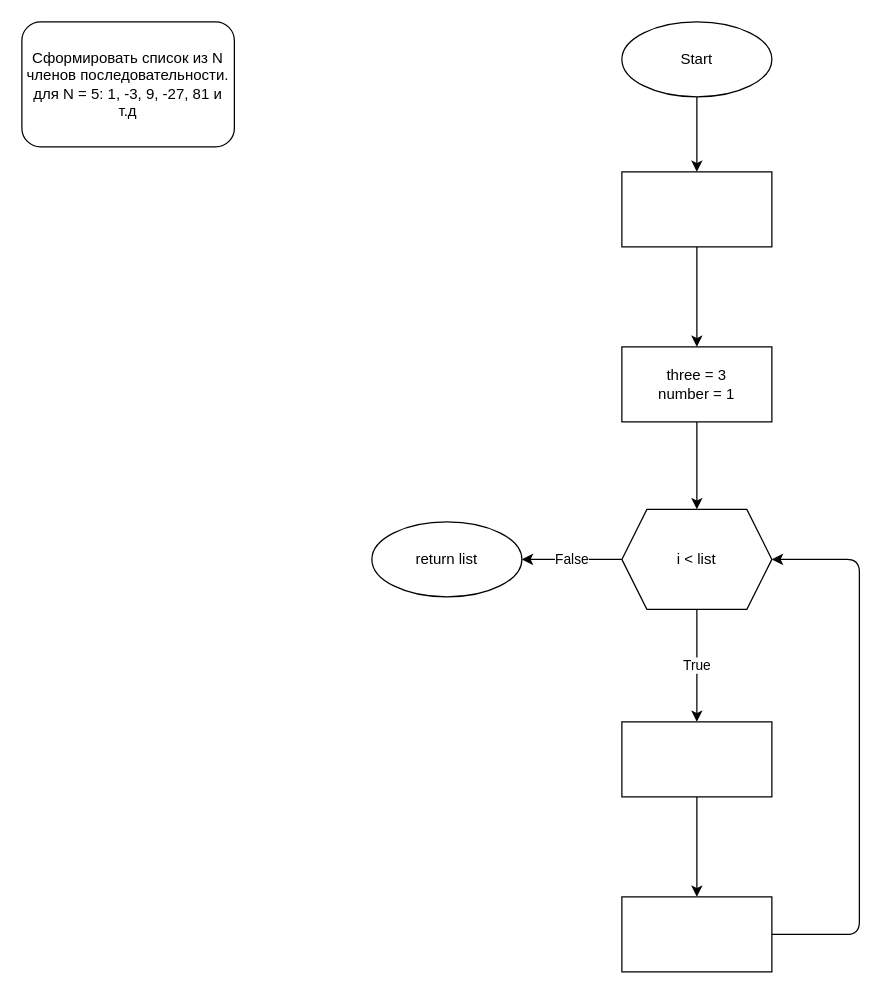
The diagram is 891 pixels wide and 994 high, and some of its shapes have lost their labels. Each missing label, with the centre of its shape:
list = []: the point at 696,209
list[i] = number: the point at 696,759
number *= -three: the point at 696,934
